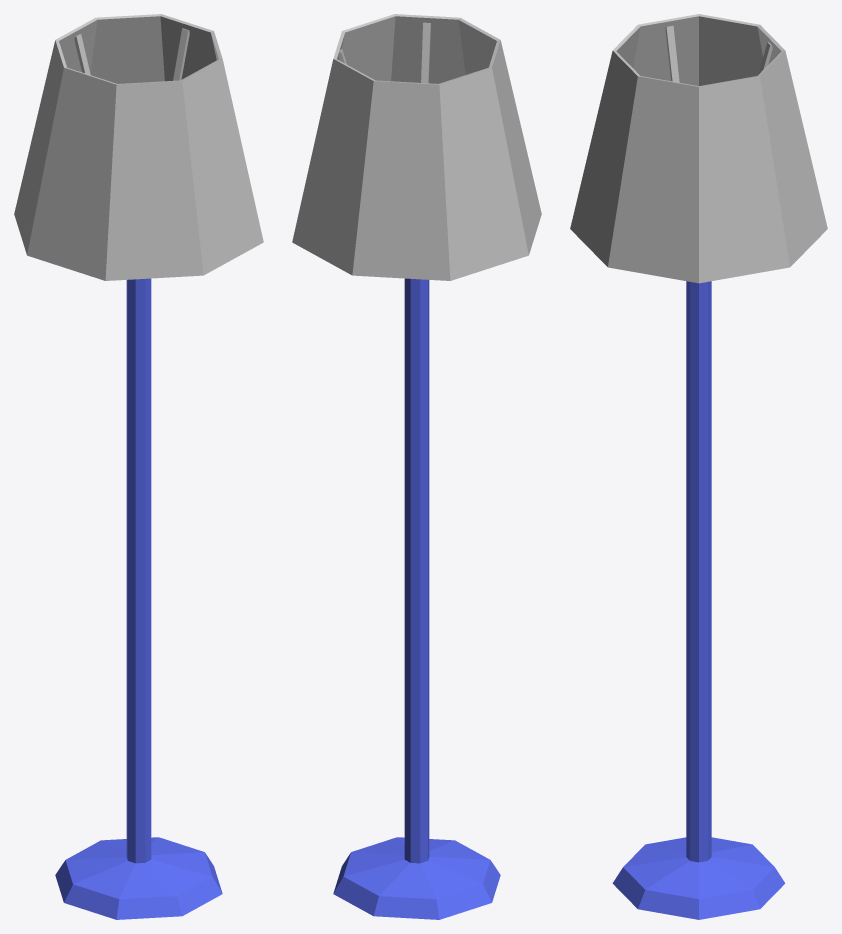
The model's file is Standing_lamp_01.obj.
3 views of the same model, side by side, from view 1: azimuth 30°, elevation 25°; view 2: azimuth 150°, elevation 25°; view 3: azimuth 270°, elevation 25° (orthographic).
Parts seen in each view (by area): view 1: Standing_lamp_01_Circle.003; view 2: Standing_lamp_01_Circle.003; view 3: Standing_lamp_01_Circle.003.
Part boxes in pixels (x1,y1,x2,y2): Standing_lamp_01_Circle.003: [14, 14, 263, 919]; Standing_lamp_01_Circle.003: [292, 14, 541, 919]; Standing_lamp_01_Circle.003: [570, 14, 827, 919].
Bounding box in the file's own units: 0.6879 × 2.46 × 0.6879.
